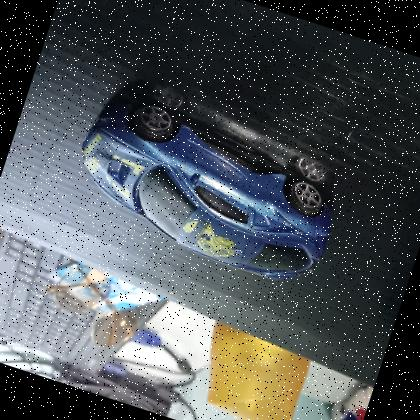Car: (57, 79, 360, 298)
